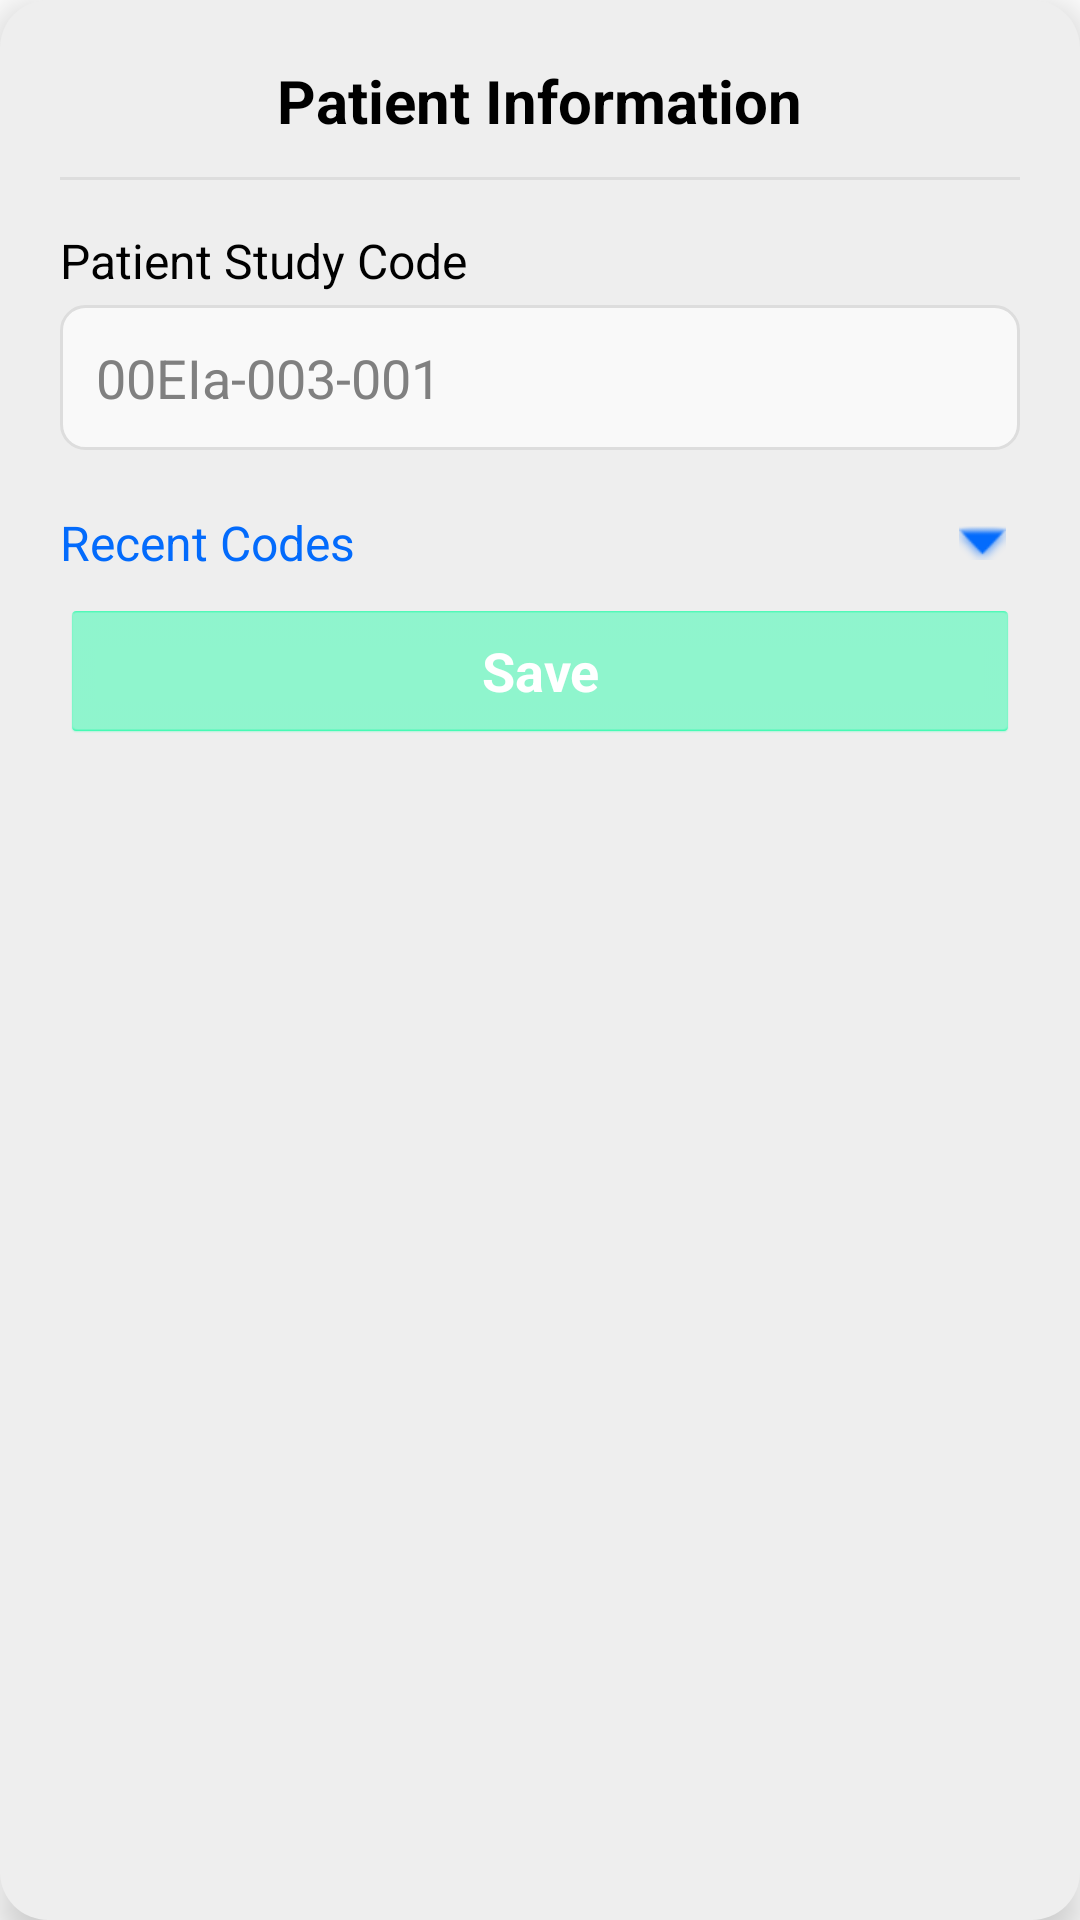

Screen size 1080 × 1920. Icon name, then its center in pixels as (x,y):
Toggle code history: (982,543)
